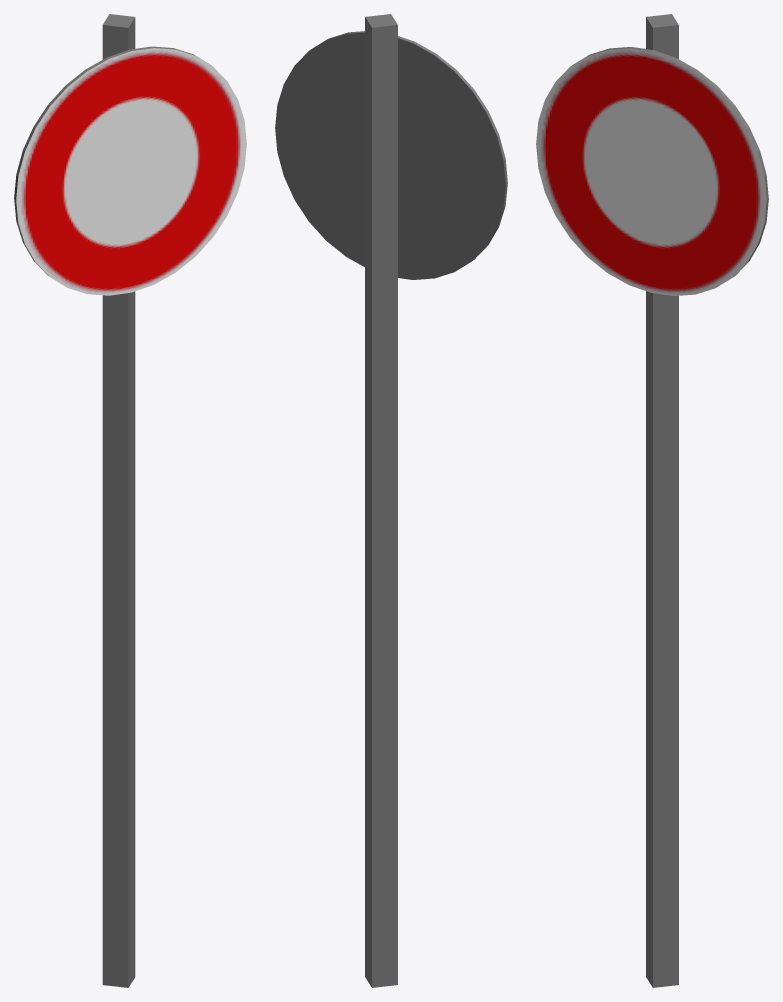
The model's file is NoTraffic.obj.
3 renders of one model, left to right at view 1: azimuth 30°, elevation 25°; view 2: azimuth 150°, elevation 25°; view 3: azimuth 330°, elevation 25°, orthographic.
Visible parts, largest first — view 1: Sign_NoTrafficAllowed; view 2: Sign_NoTrafficAllowed; view 3: Sign_NoTrafficAllowed.
Part boxes in pixels (x1,y1,x2,y2): Sign_NoTrafficAllowed: (14, 14, 246, 987); Sign_NoTrafficAllowed: (275, 14, 507, 987); Sign_NoTrafficAllowed: (536, 14, 768, 987).
Size of the model in its own units: 1.12 by 4.44 by 0.1782.
1 material, 1 textured.
